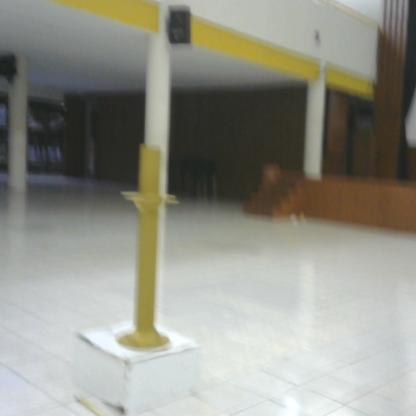pole: (116, 133, 182, 356)
